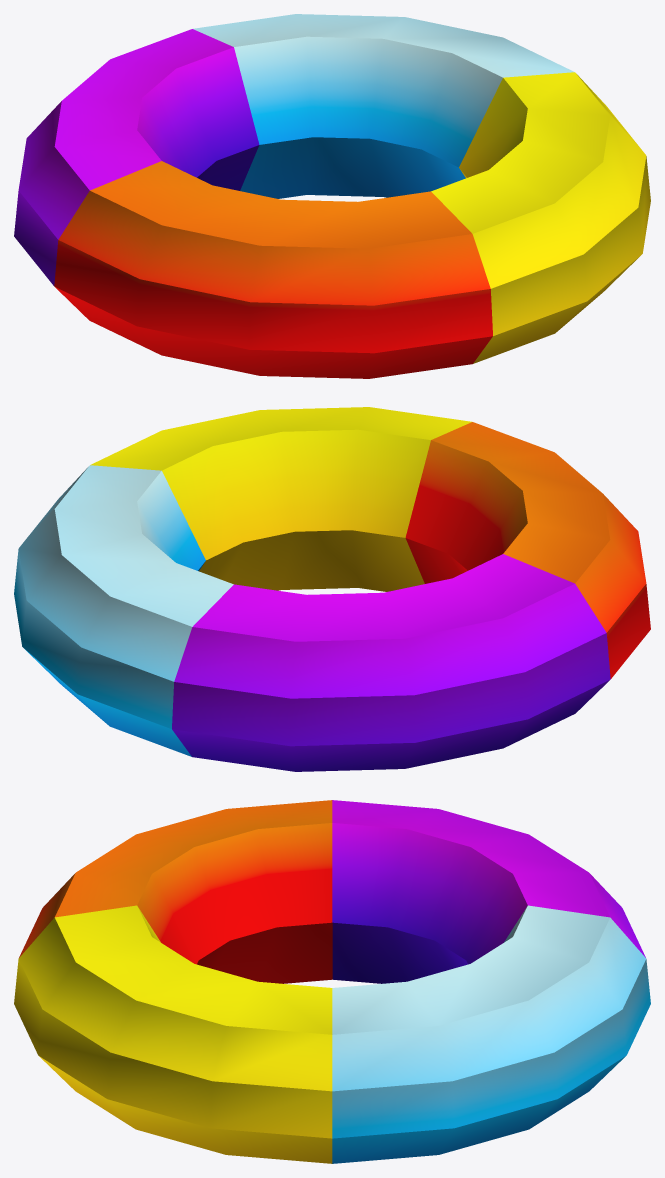
Rendered from Pelampung.fbx.
3 renders of one model, top to bottom at view 1: azimuth 30°, elevation 25°; view 2: azimuth 150°, elevation 25°; view 3: azimuth 270°, elevation 25°, orthographic.
Visible parts, largest first — view 1: Prop_SwimmingRing_05; view 2: Prop_SwimmingRing_05; view 3: Prop_SwimmingRing_05.
Part boxes in pixels (x1,y1,x2,y2): Prop_SwimmingRing_05: (14, 14, 650, 378); Prop_SwimmingRing_05: (14, 407, 650, 771); Prop_SwimmingRing_05: (14, 800, 650, 1163).
Size of the model in its own units: 78.21 by 21.25 by 78.21.
